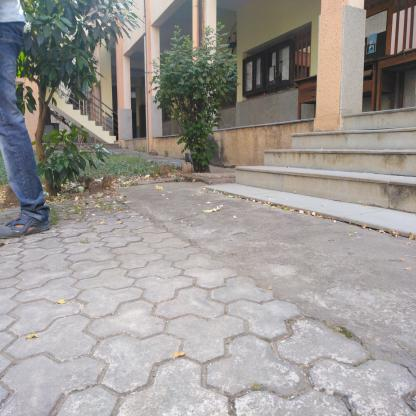stairs: (344, 112, 416, 216)
